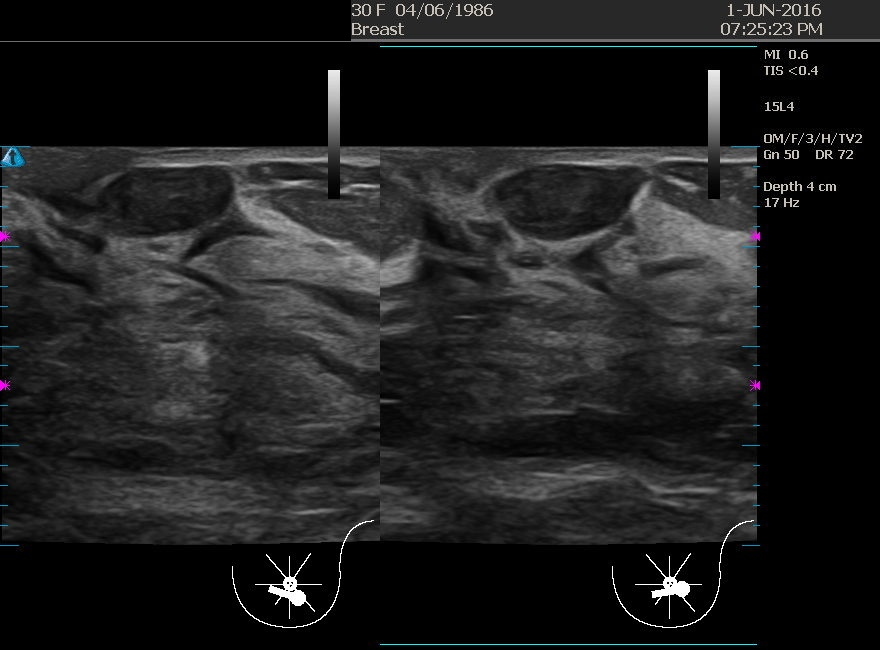BIRADS_3: (47, 153, 247, 353), (470, 148, 670, 348)
